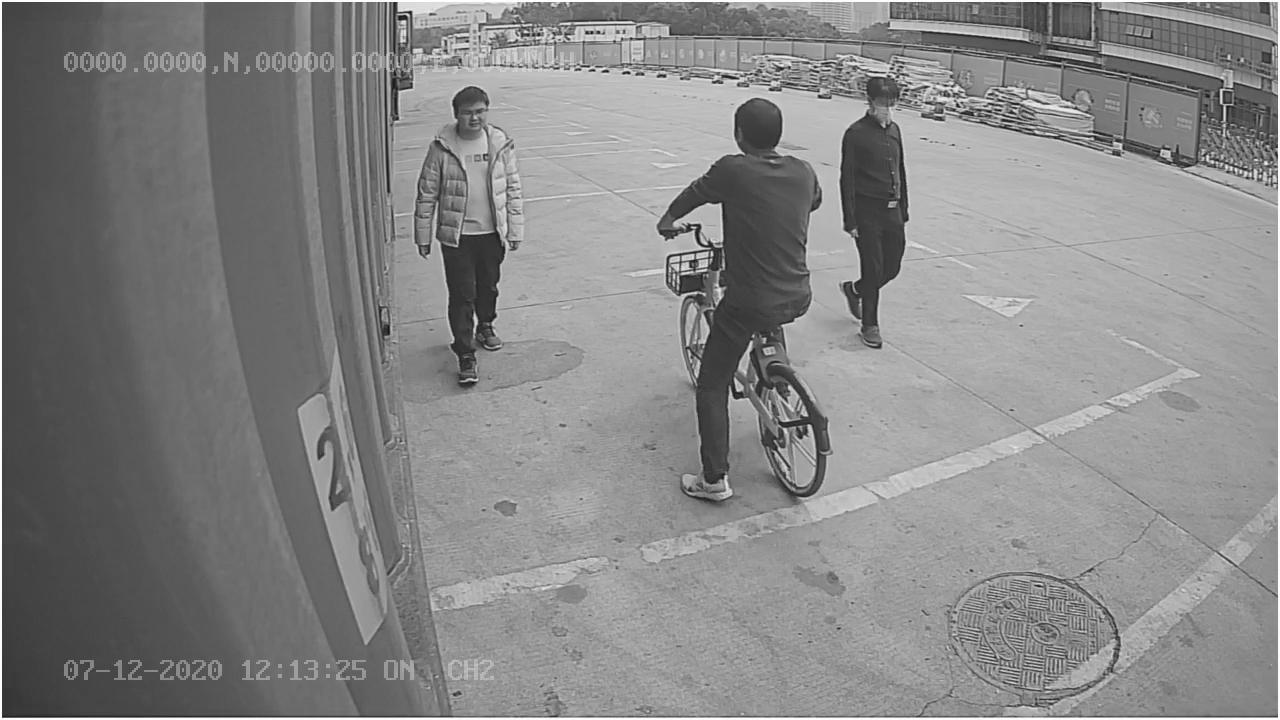person: (410, 80, 530, 386), (836, 70, 913, 353)
